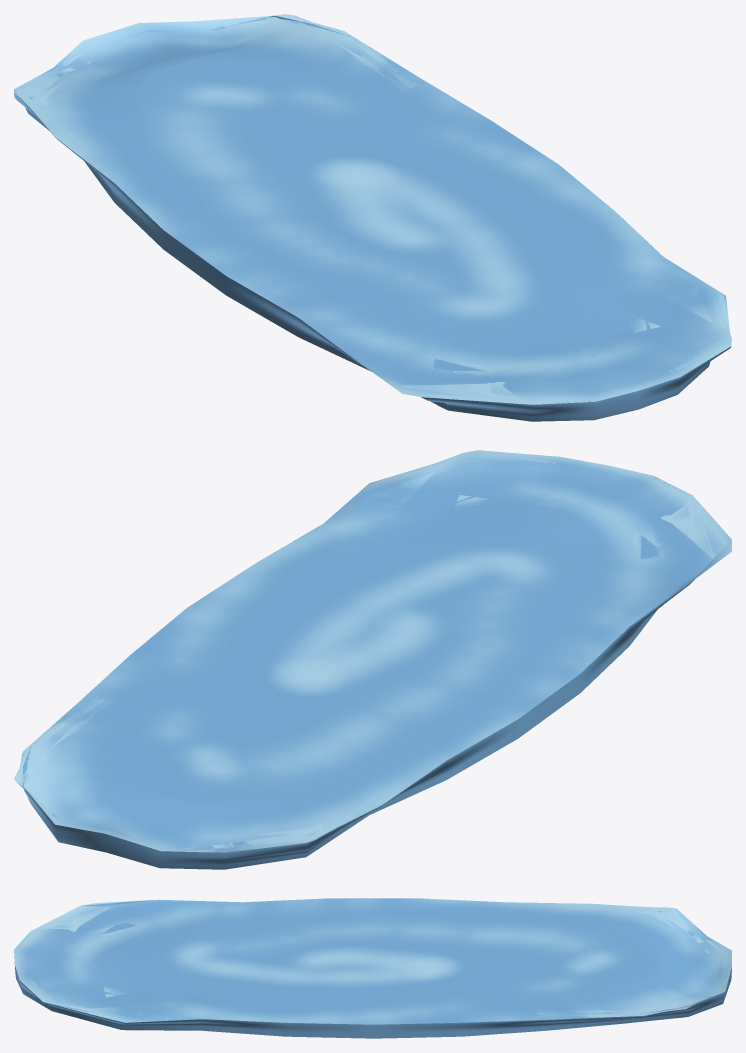
Rendered from water.fbx.
3 views of the same model, one above another, from view 1: azimuth 30°, elevation 25°; view 2: azimuth 150°, elevation 25°; view 3: azimuth 270°, elevation 25° (orthographic). The views are drawn at different scales.
Visible parts, largest first — view 1: pCylinder4; view 2: pCylinder4; view 3: pCylinder4.
Boxes of the visible parts, left/top/right/bottom form: pCylinder4: left=14, top=14, right=731, bottom=421; pCylinder4: left=14, top=450, right=731, bottom=869; pCylinder4: left=14, top=898, right=731, bottom=1038.
Size of the model in its own units: 414 by 38.4 by 993.
